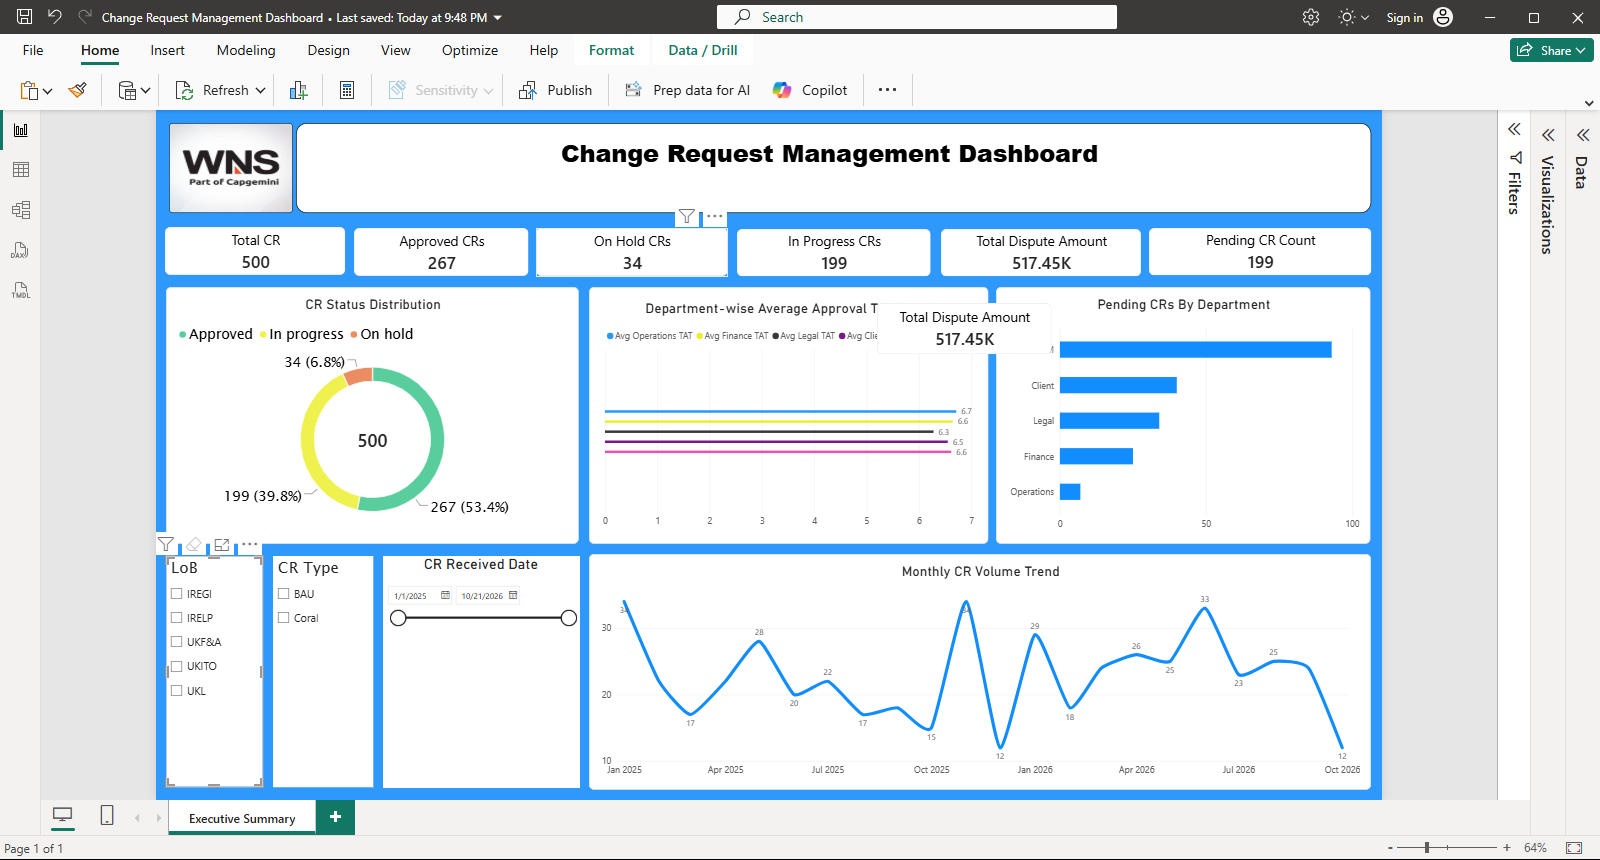

The dashboard page shown, as its layout file describes it:
{"tool":"powerbi","page":{"name":"Executive Summary","canvas":[1920,1080],"ordinal":0},"visuals":[{"type":"image","box":[20.1,20.1,193.6,140.7],"z":0},{"type":"textbox","box":[219.2,20.1,1682.5,140.7],"z":1},{"type":"cardVisual","fields":{"Data":["CR Dataset.Total CR"]},"box":[18.3,184.5,352.6,74.9],"z":2},{"type":"cardVisual","fields":{"Data":["CR Dataset.Approved CRs"]},"box":[385.5,184.5,363.5,74.9],"z":3},{"type":"cardVisual","fields":{"Data":["CR Dataset.On Hold CRs"]},"box":[765.4,184.5,358.1,74.9],"z":4},{"type":"cardVisual","fields":{"Data":["CR Dataset.In Progress CRs"]},"box":[1141.8,184.5,372.7,74.9],"z":5},{"type":"cardVisual","fields":{"Data":["CR Dataset.Pending CR Count"]},"box":[1529.1,184.5,372.7,74.9],"z":6},{"type":"donutChart","title":"CR Status Distribution","fields":{"Category":["CR Dataset.Status"],"Y":["Count(CR Dataset.Change Request Number)"]},"box":[15.7,277,646.4,402.3],"z":7},{"type":"clusteredBarChart","title":"Department-wise Average Approval TAT (Days)","fields":{"Y":["CR Dataset.Avg Operations TAT","CR Dataset.Avg Finance TAT","CR Dataset.Avg Legal TAT","CR Dataset.Avg Client TAT","CR Dataset.Avg SRM TAT"]},"box":[677.8,277.7,624.8,401.9],"z":8},{"type":"clusteredBarChart","title":"Pending CRs By Department","fields":{"Category":["CR Dataset.Pending Department"],"Y":["CR Dataset.Pending CR Count"]},"box":[1315.3,277.7,586.4,401.9],"z":9},{"type":"lineChart","title":"Monthly CR Volume Trend","fields":{"Category":["CR Dataset.CR Received Date.Variation.Date Hierarchy.Year","CR Dataset.CR Received Date.Variation.Date Hierarchy.Month"],"Y":["Count(CR Dataset.Change Request Number)"]},"box":[677.8,694.2,1224,369],"z":10},{"type":"slicer","title":"CR Received Date","fields":{"Values":["CR Dataset.CR Received Date"]},"box":[355.3,698.1,306.8,361.6],"z":11},{"type":"slicer","fields":{"Values":["CR Dataset.LoB"]},"box":[15.7,698.1,151.8,361.6],"z":12},{"type":"slicer","fields":{"Values":["CR Dataset.CR Type"]},"box":[183.1,698.1,156.5,361.6],"z":13}]}

Visuals, with their boxes on the page's 1920x1080 design canvas (x1, y1, x2, y2). These are canvas units, not pixel positions in the 1600x860 screenshot, which may show the page scaled, cropped or inside an application window:
image: pyautogui.locateOnScreen(20, 20, 214, 161)
textbox: pyautogui.locateOnScreen(219, 20, 1902, 161)
cardVisual - CR Dataset.Total CR: pyautogui.locateOnScreen(18, 184, 371, 259)
cardVisual - CR Dataset.Approved CRs: pyautogui.locateOnScreen(386, 184, 749, 259)
cardVisual - CR Dataset.On Hold CRs: pyautogui.locateOnScreen(765, 184, 1124, 259)
cardVisual - CR Dataset.In Progress CRs: pyautogui.locateOnScreen(1142, 184, 1514, 259)
cardVisual - CR Dataset.Pending CR Count: pyautogui.locateOnScreen(1529, 184, 1902, 259)
"CR Status Distribution" donutChart: pyautogui.locateOnScreen(16, 277, 662, 679)
"Department-wise Average Approval TAT (Days)" clusteredBarChart: pyautogui.locateOnScreen(678, 278, 1303, 680)
"Pending CRs By Department" clusteredBarChart: pyautogui.locateOnScreen(1315, 278, 1902, 680)
"Monthly CR Volume Trend" lineChart: pyautogui.locateOnScreen(678, 694, 1902, 1063)
"CR Received Date" slicer: pyautogui.locateOnScreen(355, 698, 662, 1060)
slicer - CR Dataset.LoB: pyautogui.locateOnScreen(16, 698, 168, 1060)
slicer - CR Dataset.CR Type: pyautogui.locateOnScreen(183, 698, 340, 1060)
